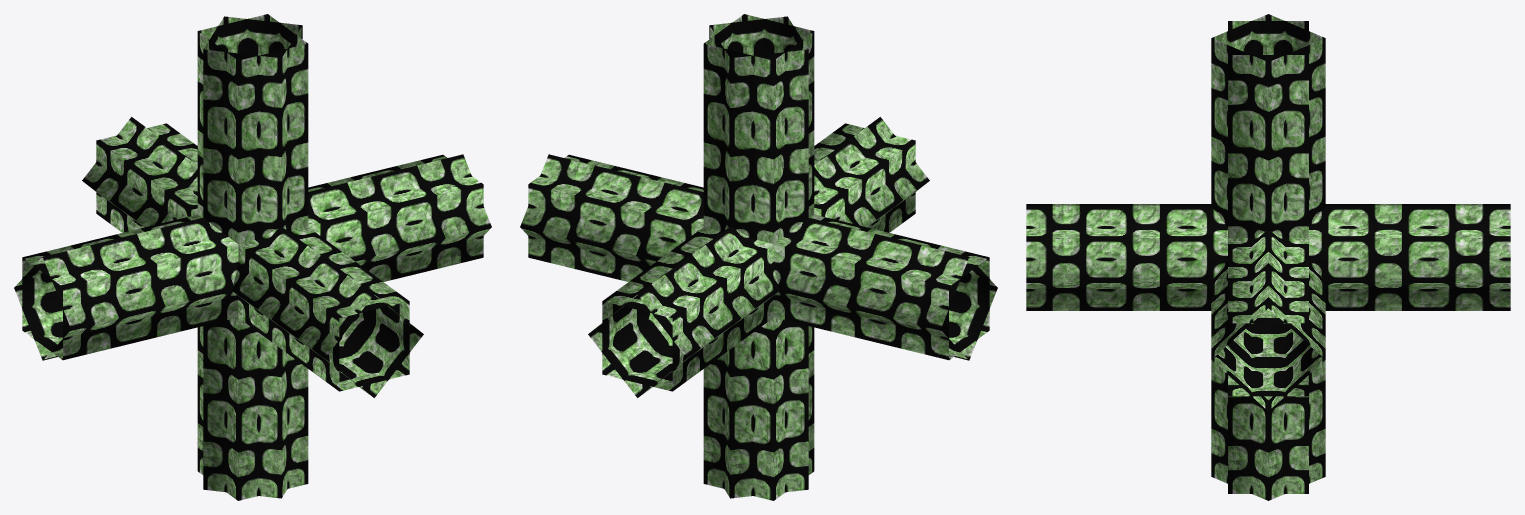
File: StarTetrahemihexacron2.gltf
The picture shows the model from 3 angles, left to right: view 1: azimuth 30°, elevation 25°; view 2: azimuth 150°, elevation 25°; view 3: azimuth 270°, elevation 25°; orthographic projection.
Parts seen in each view (by area): view 1: StarTetrahemihexacron; view 2: StarTetrahemihexacron; view 3: StarTetrahemihexacron.
Boxes of the visible parts, box(x1,y1,x2,y2) form: StarTetrahemihexacron: box(14, 14, 491, 500); StarTetrahemihexacron: box(520, 14, 997, 500); StarTetrahemihexacron: box(1026, 14, 1510, 500).
Bounding box in the file's own units: 6 × 6 × 6.
Materials: 1 (1 with a texture image).
